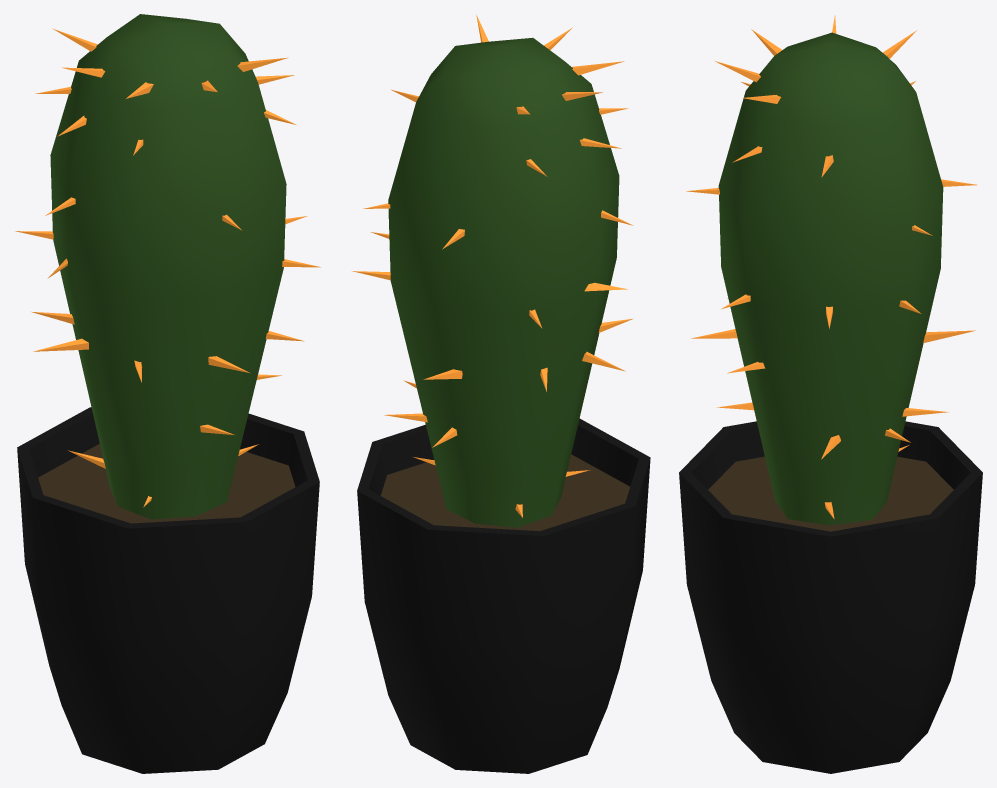
The model's file is q-houseplant-3.glb.
3 views of the same model, side by side, from view 1: azimuth 30°, elevation 25°; view 2: azimuth 150°, elevation 25°; view 3: azimuth 270°, elevation 25° (orthographic). The views are drawn at different scales.
Parts seen in each view (by area): view 1: Houseplant_3; view 2: Houseplant_3; view 3: Houseplant_3.
Boxes of the visible parts, x1,y1,x2,y2 form: Houseplant_3: (15,14,320,773); Houseplant_3: (352,14,650,773); Houseplant_3: (679,15,982,773).
Bounding box in the file's own units: 0.3426 × 0.8449 × 0.3383.
